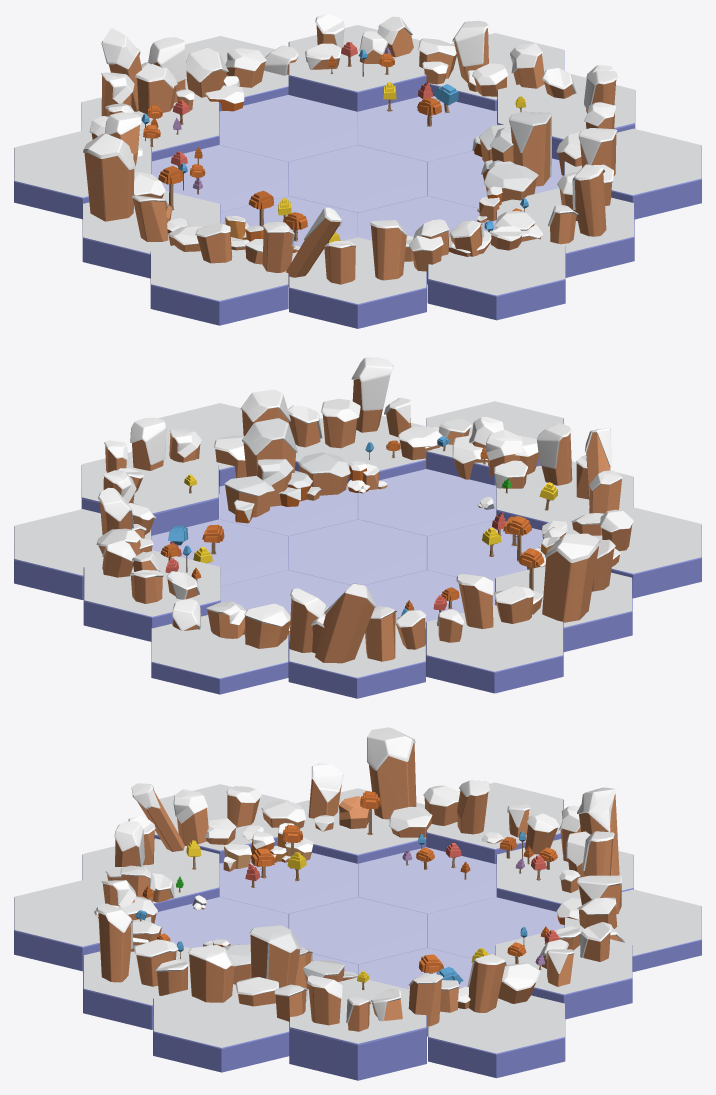
File: Arena_02.fbx
The picture shows the model from 3 angles, top to bottom: view 1: azimuth 30°, elevation 25°; view 2: azimuth 150°, elevation 25°; view 3: azimuth 270°, elevation 25°; orthographic projection.
Visible parts, largest first — view 1: Arena_02; view 2: Arena_02; view 3: Arena_02.
Part boxes in pixels (left/top/right/bottom): Arena_02: left=14, top=14, right=701, bottom=328; Arena_02: left=14, top=357, right=701, bottom=698; Arena_02: left=14, top=727, right=701, bottom=1080.
Size of the model in its own units: 56.29 by 12.16 by 60.8.
